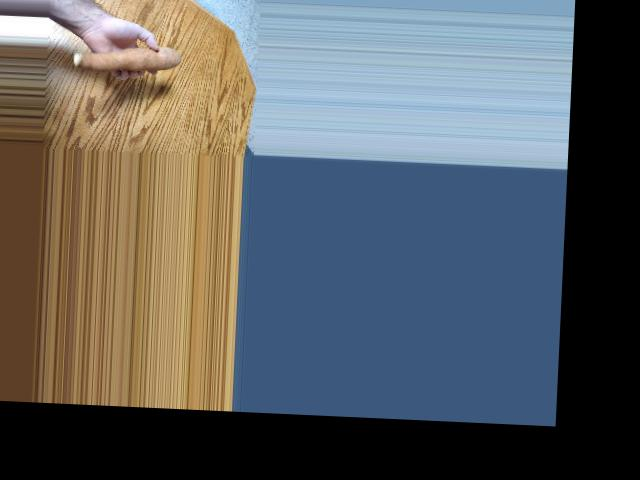sweet_potato: (81, 48, 181, 80)
